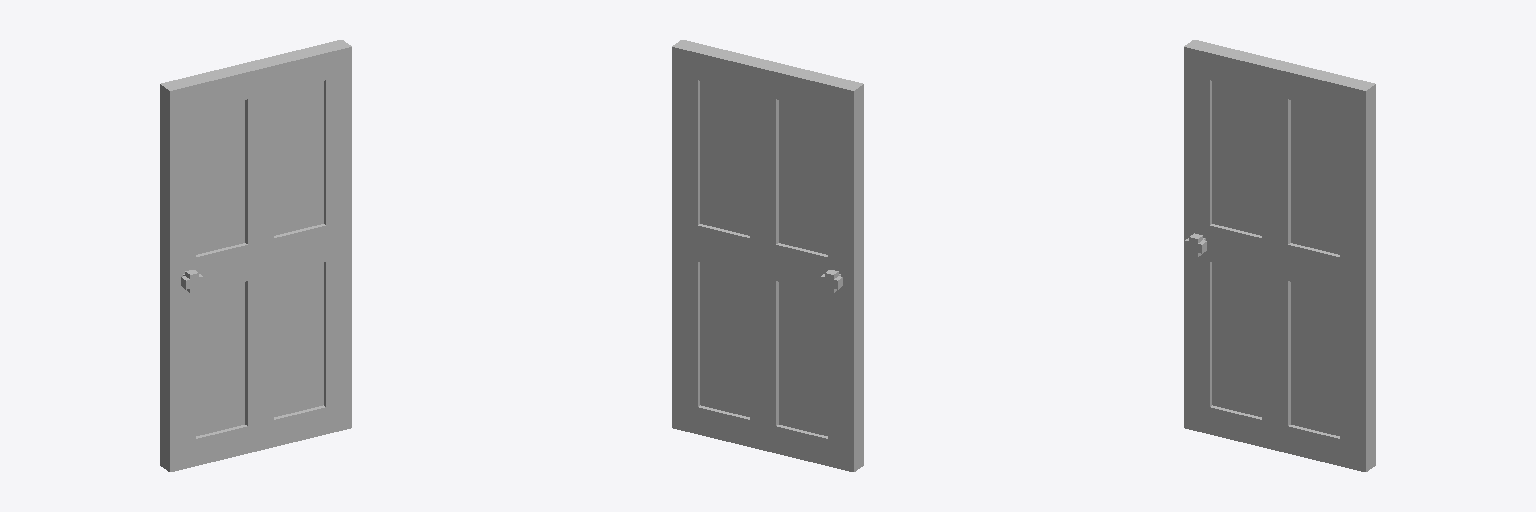
The model's file is door.obj.
3 renders of one model, left to right at view 1: azimuth 30°, elevation 25°; view 2: azimuth 150°, elevation 25°; view 3: azimuth 330°, elevation 25°, orthographic.
Parts seen in each view (by area): view 1: door; view 2: door; view 3: door.
Part boxes in pixels (left/top/right/bottom): door: left=160, top=40, right=351, bottom=471; door: left=672, top=40, right=863, bottom=471; door: left=1184, top=40, right=1375, bottom=471.
Size of the model in its own units: 42 by 84 by 10.